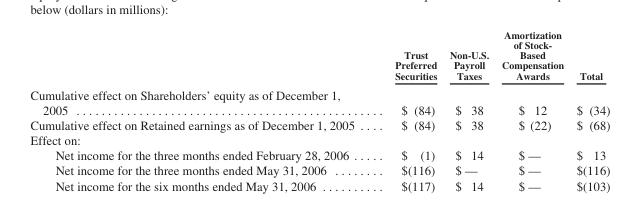table: (29, 28, 609, 192)
table column: (29, 28, 374, 192), (494, 28, 569, 192), (374, 28, 442, 192), (442, 28, 494, 192), (569, 28, 609, 192)
table column header: (29, 28, 609, 84)
table projected row header: (29, 132, 609, 147)
table row: (29, 28, 609, 84), (29, 84, 609, 117), (29, 117, 609, 132), (29, 132, 609, 147), (29, 147, 609, 162), (29, 162, 609, 177), (29, 177, 609, 192)
